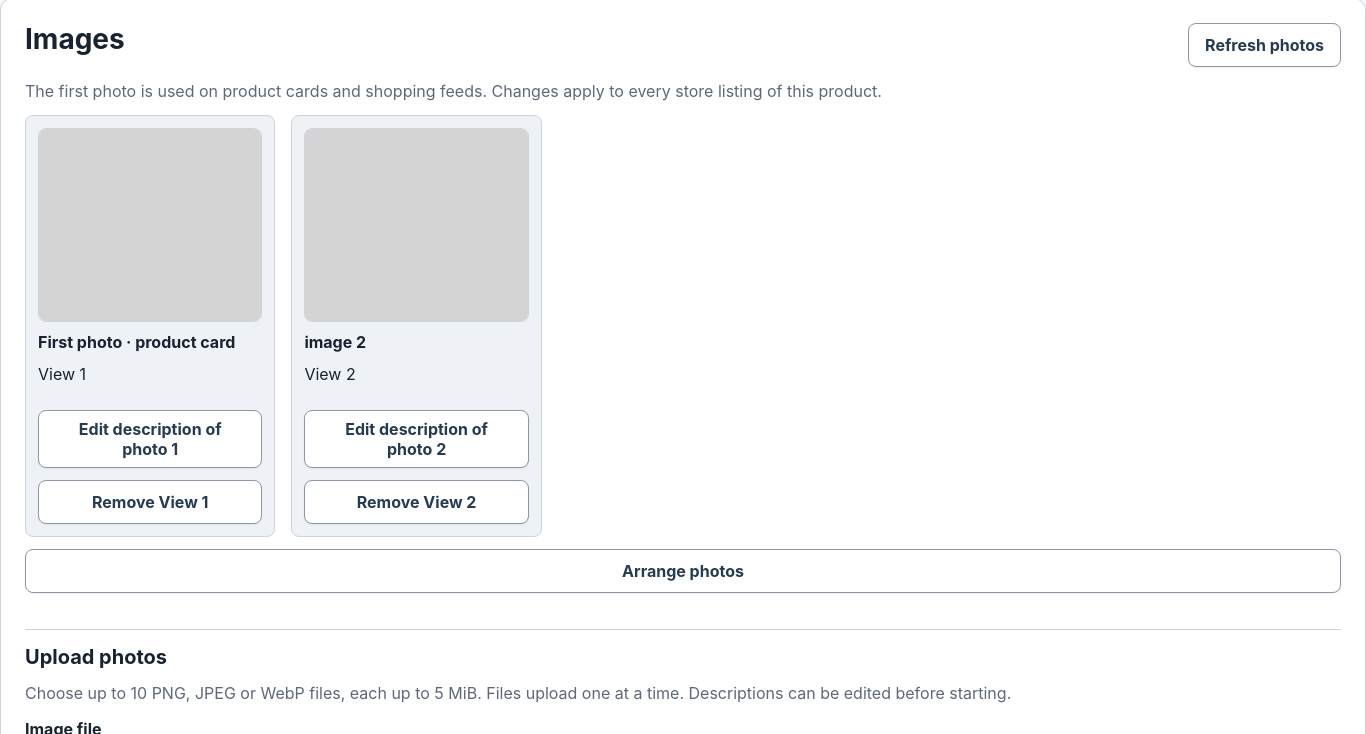
Test: edits and clears saved descriptions without changing order
Click the button "Edit description of photo 1": (150, 439) 38,410 -> 262,468
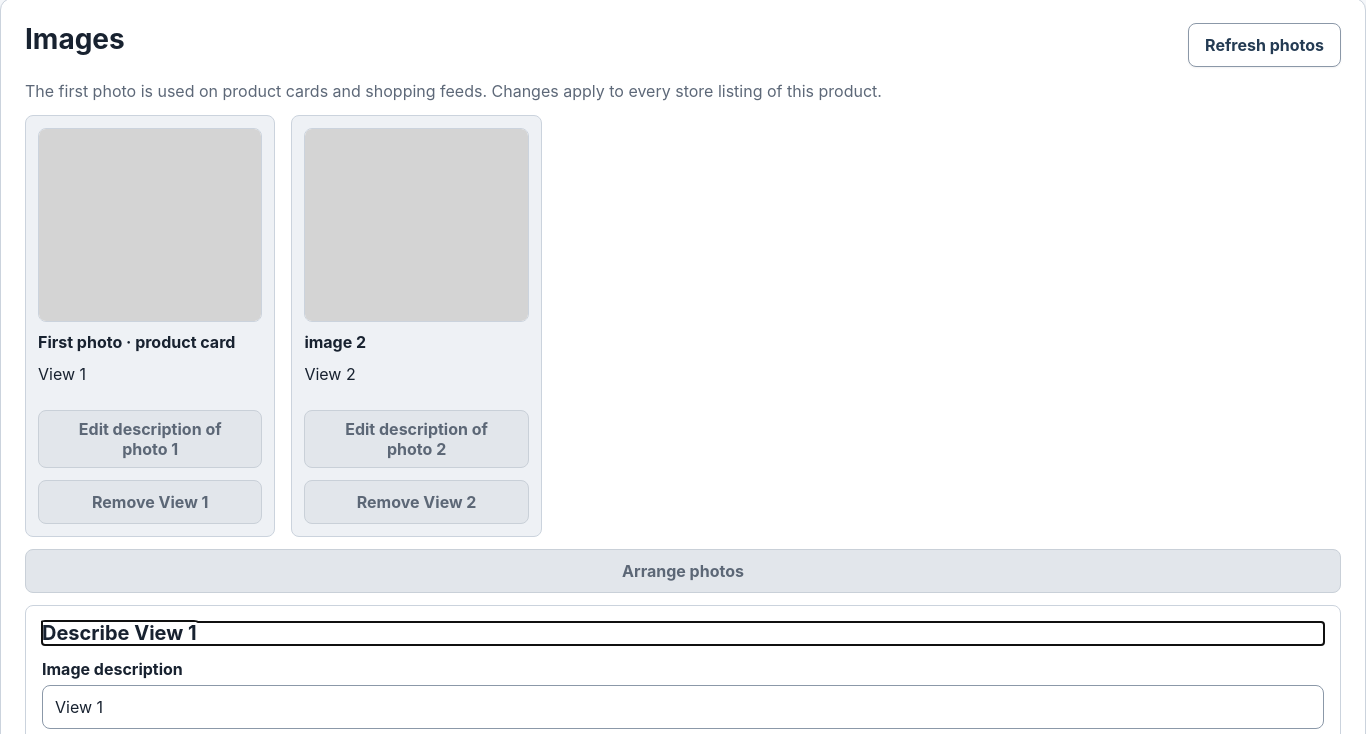
Clear the field labelled "Image description": (683, 707) 42,685 -> 1324,729
(page scrolled)
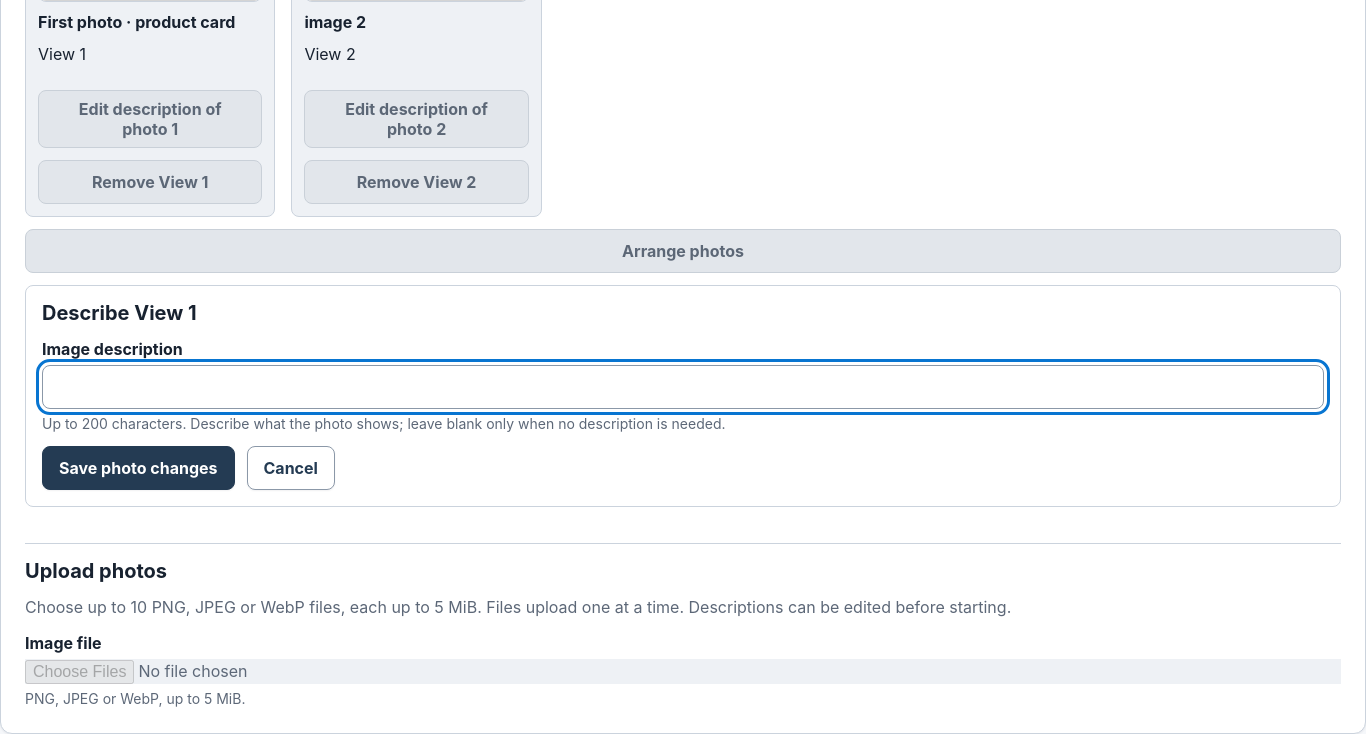
Click the button "Save photo changes": (138, 468) 42,446 -> 234,490
(page scrolled)
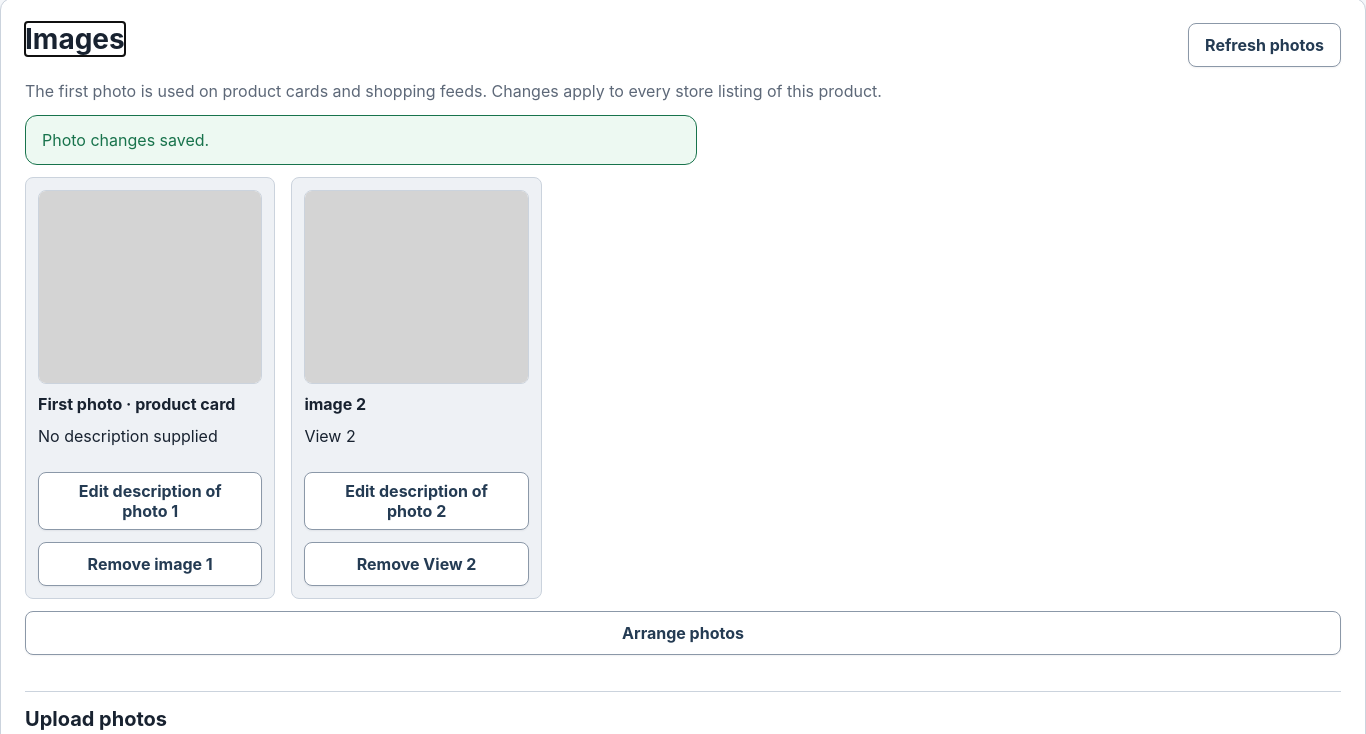
Result: the text "Photo changes saved." is shown at 42,130 -> 209,150
